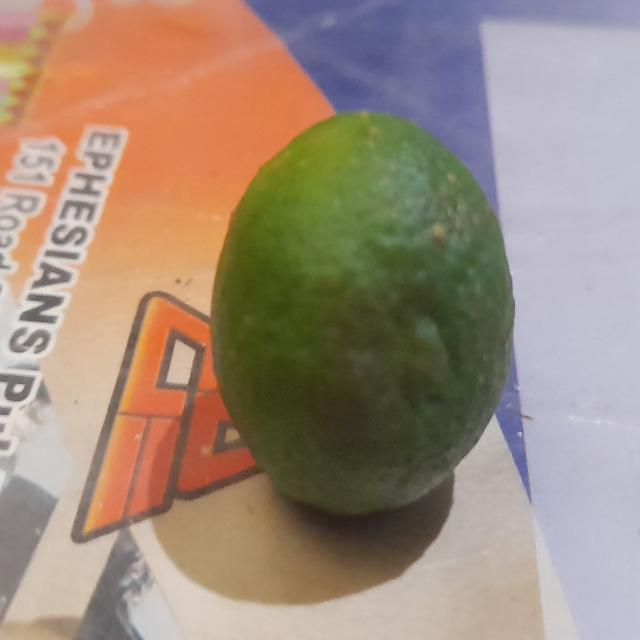heathy: (206, 102, 514, 523)
